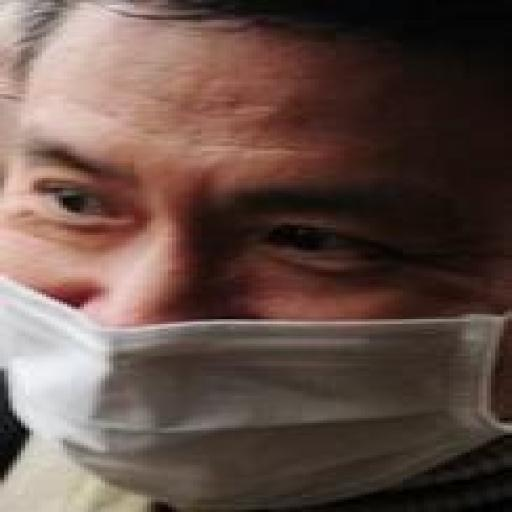mask: (4, 114, 512, 512)
